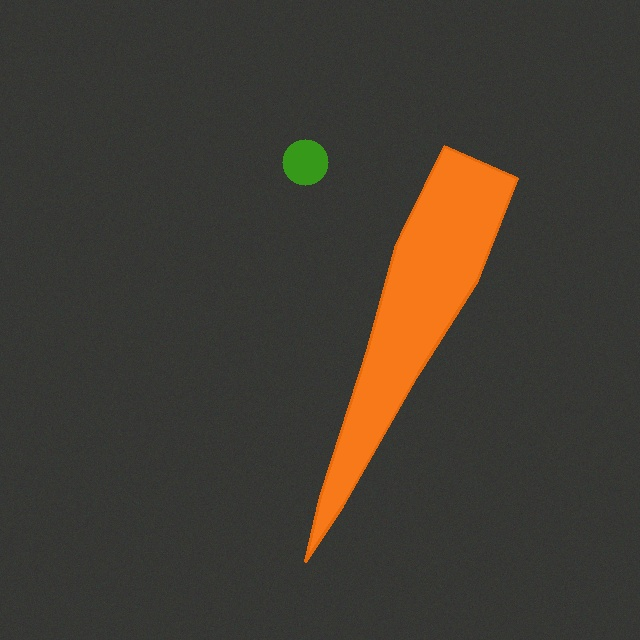Good_Carrot: (297, 138, 525, 569)
